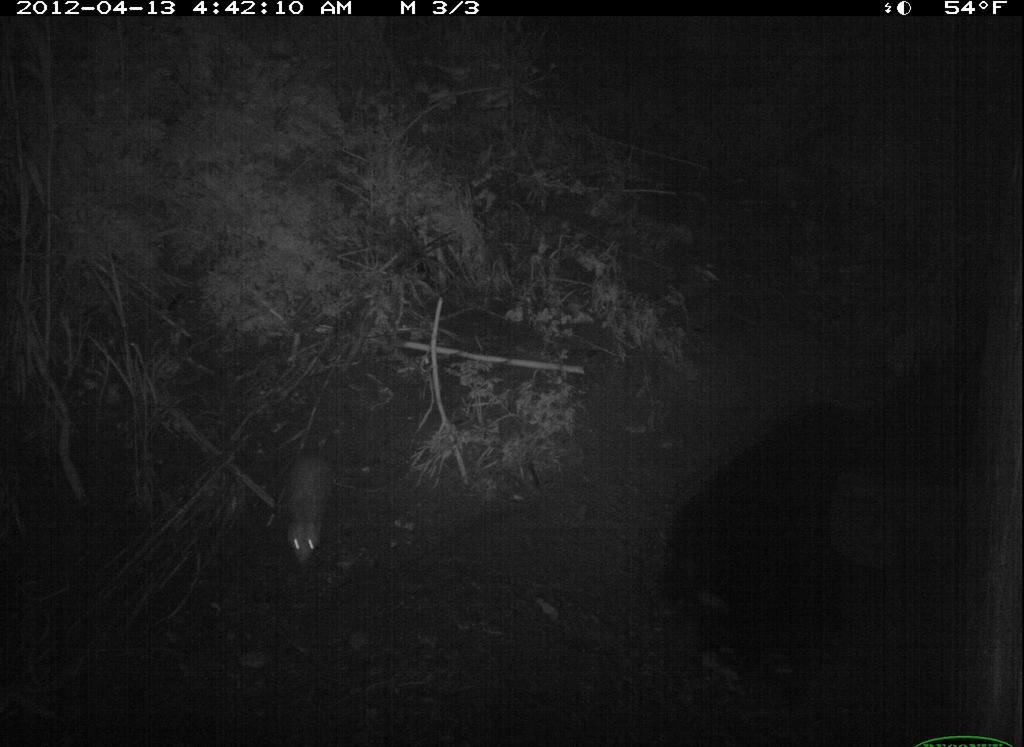opossum: (268, 441, 345, 570)
